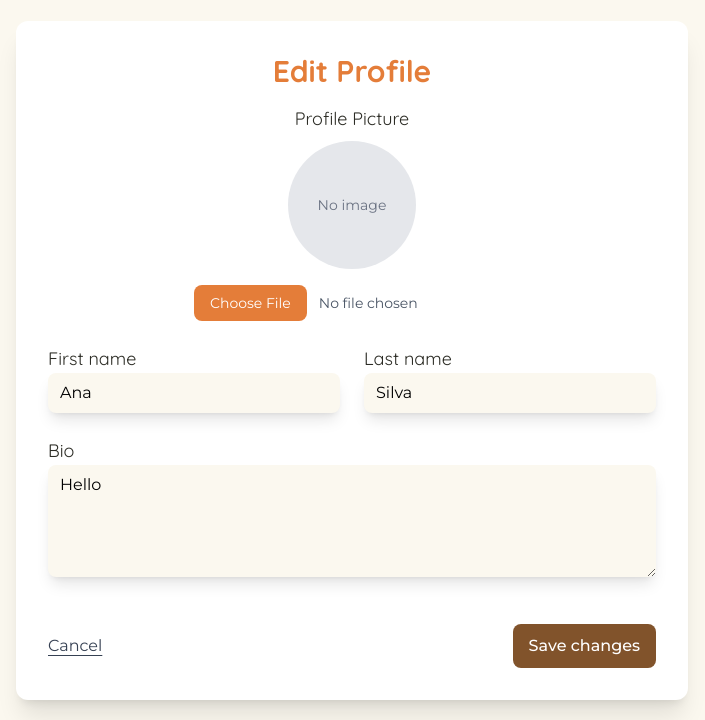
Scenario: EditProfilePage › shows backend update error
expect the field labelled "First name" is shown: met, box [48, 372, 340, 412]
Click the button "Save changes": (584, 646) [513, 624, 656, 668]
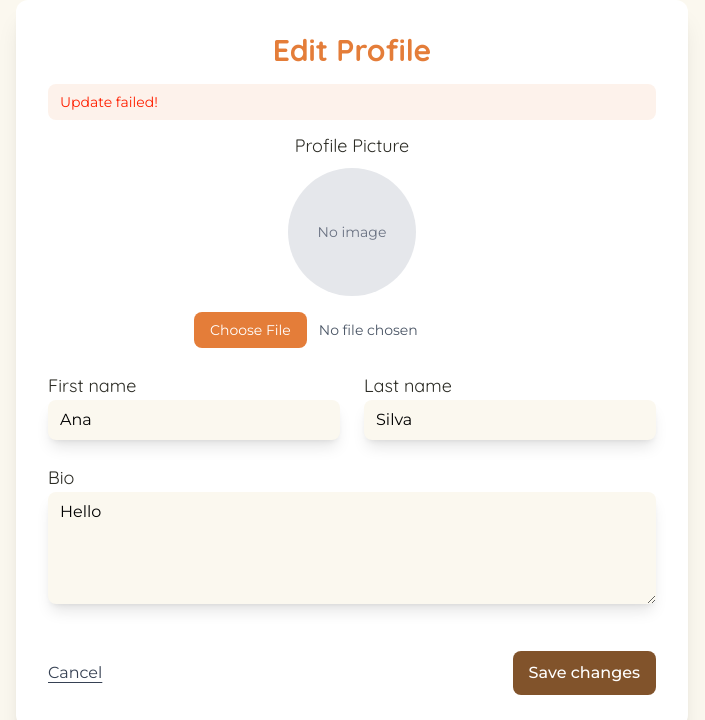
expect the text "Update failed!" is shown: met, box [48, 84, 656, 120]
